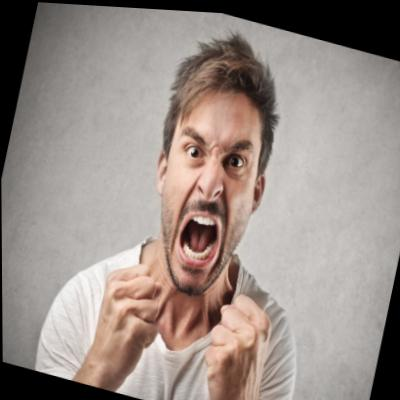angry: (141, 68, 277, 306)
